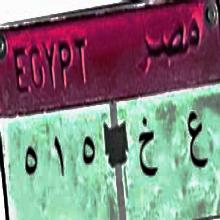1: (46, 132, 66, 187)
5: (21, 140, 38, 184), (80, 133, 96, 170)
ain: (183, 101, 208, 173)
khaa: (135, 115, 159, 193)
